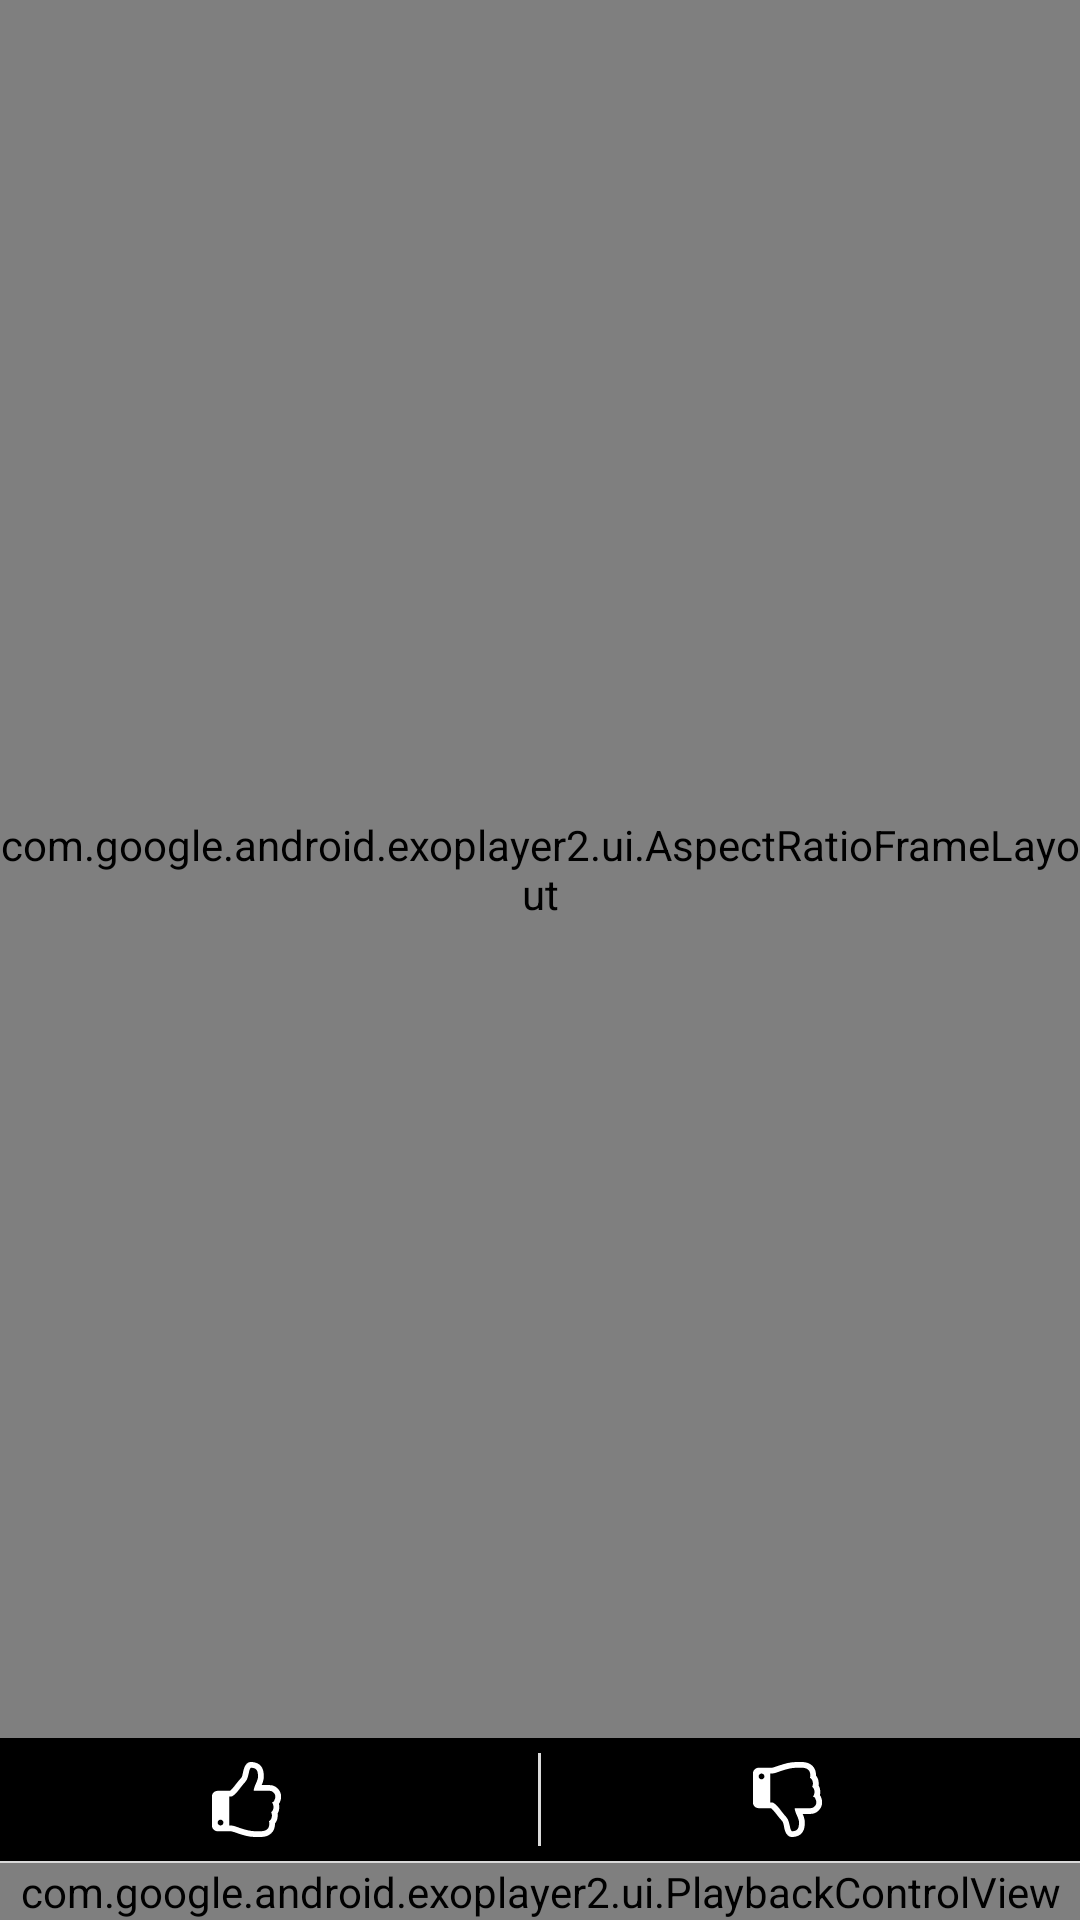

Icons on this 1080px x 1920px Android screen, each with its box as (x1, y1, x2, y2):
downvote: (753, 1762, 822, 1837)
upvote: (212, 1762, 281, 1837)
